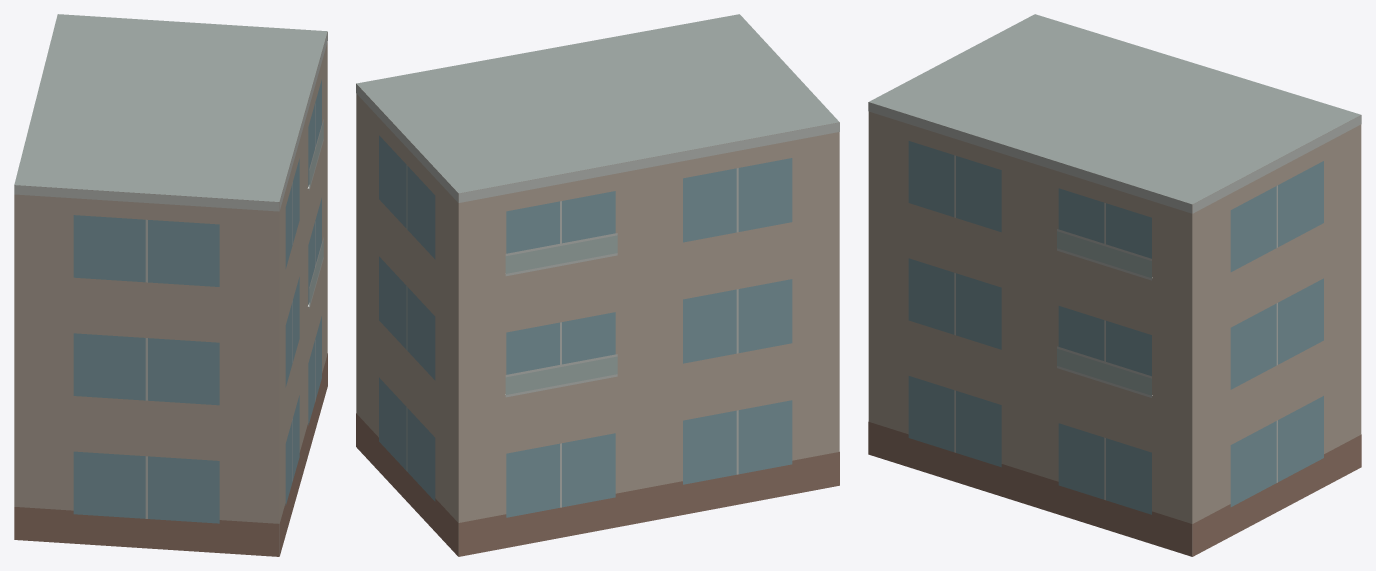
The model's file is survey-upis-33032482.glb.
3 views of the same model, side by side, from view 1: azimuth 30°, elevation 25°; view 2: azimuth 150°, elevation 25°; view 3: azimuth 270°, elevation 25° (orthographic). The views are drawn at different scales.
Parts seen in each view (by area): view 1: survey-upis-33032482.tmp; view 2: survey-upis-33032482.tmp; view 3: survey-upis-33032482.tmp.
Part boxes in pixels (bbox=[...]): survey-upis-33032482.tmp: bbox=[14, 14, 327, 556]; survey-upis-33032482.tmp: bbox=[356, 14, 839, 556]; survey-upis-33032482.tmp: bbox=[868, 14, 1361, 556].
Size of the model in its own units: 10.61 by 9.15 by 11.61.
